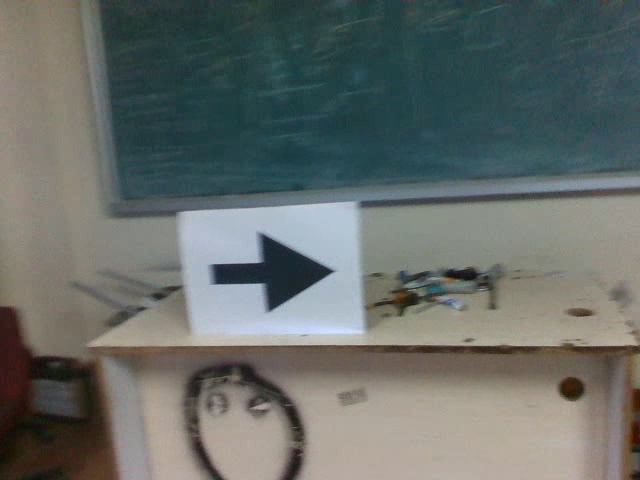Right: (203, 224, 337, 316)
